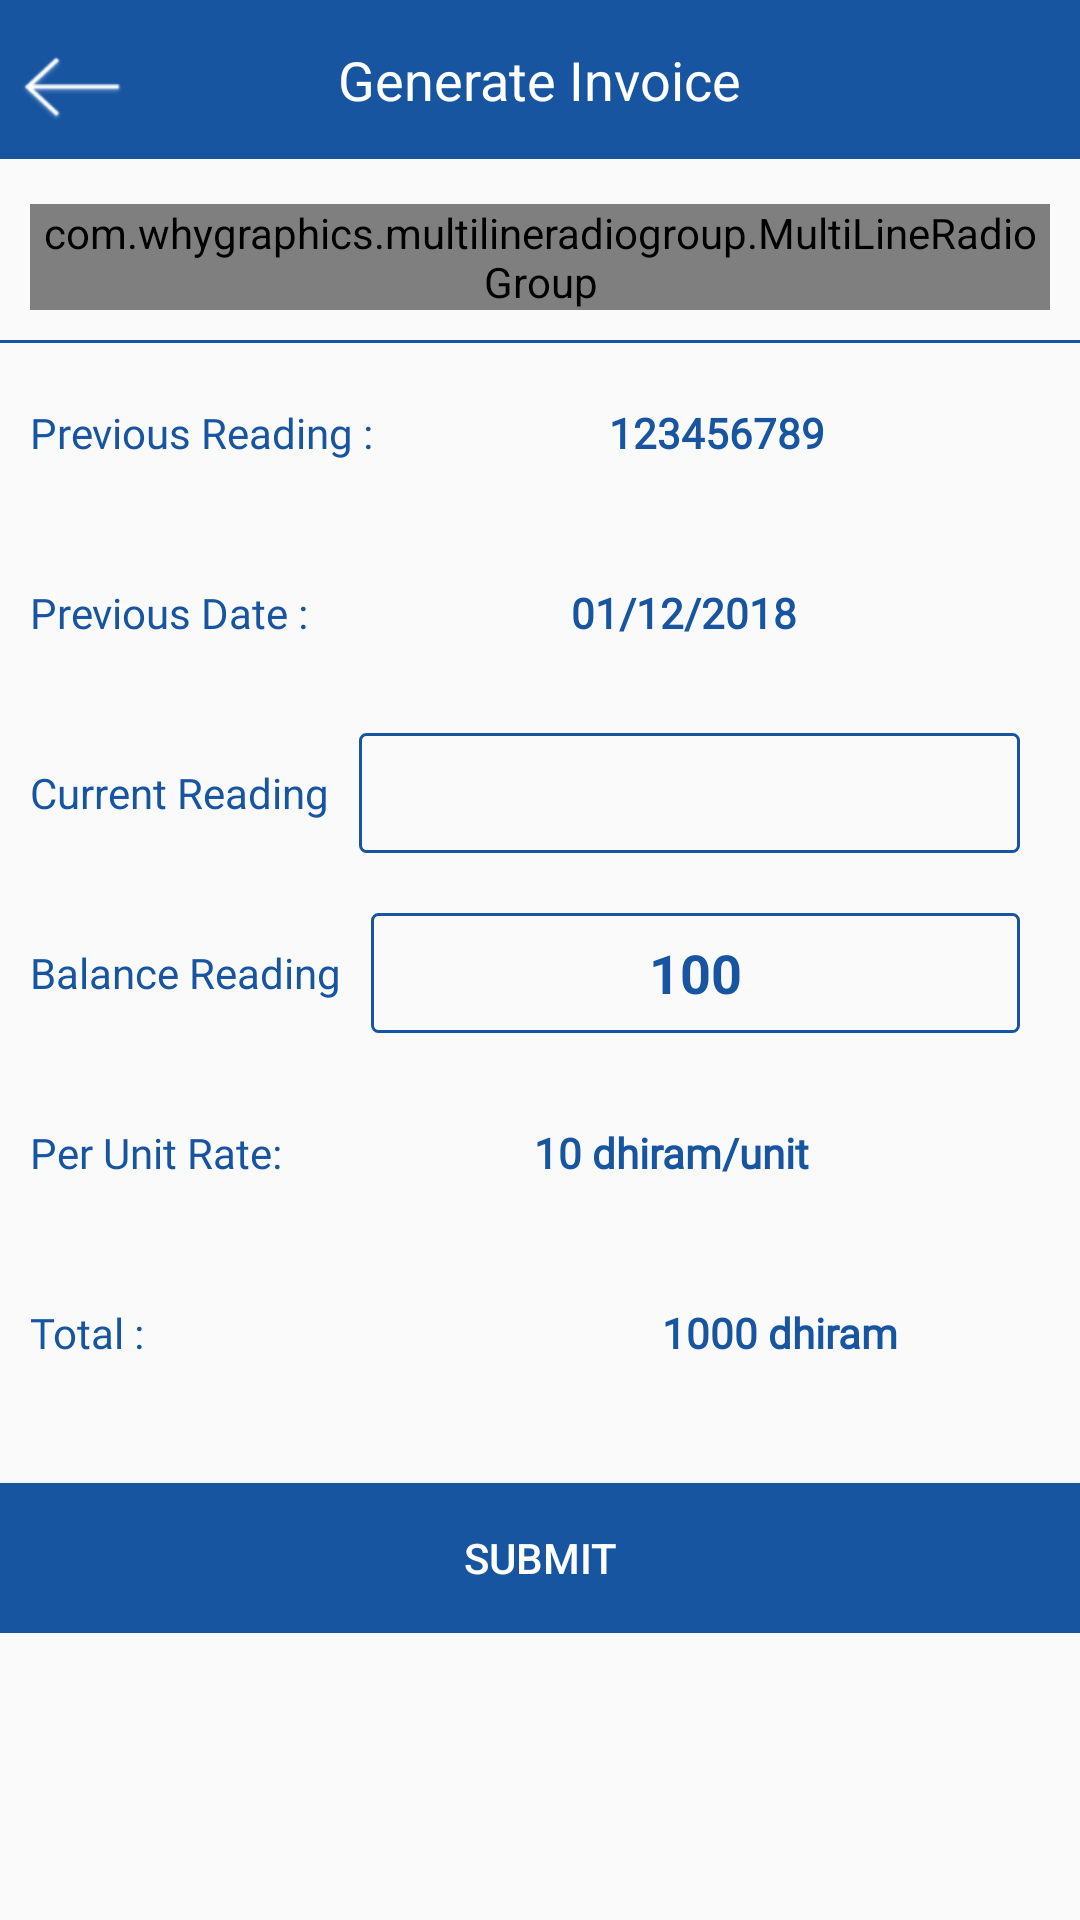

Screen size 1080px×1920px. Icon name, then its box in pixels as (x1, y1, x2, y2):
back: (24, 57, 120, 118)
